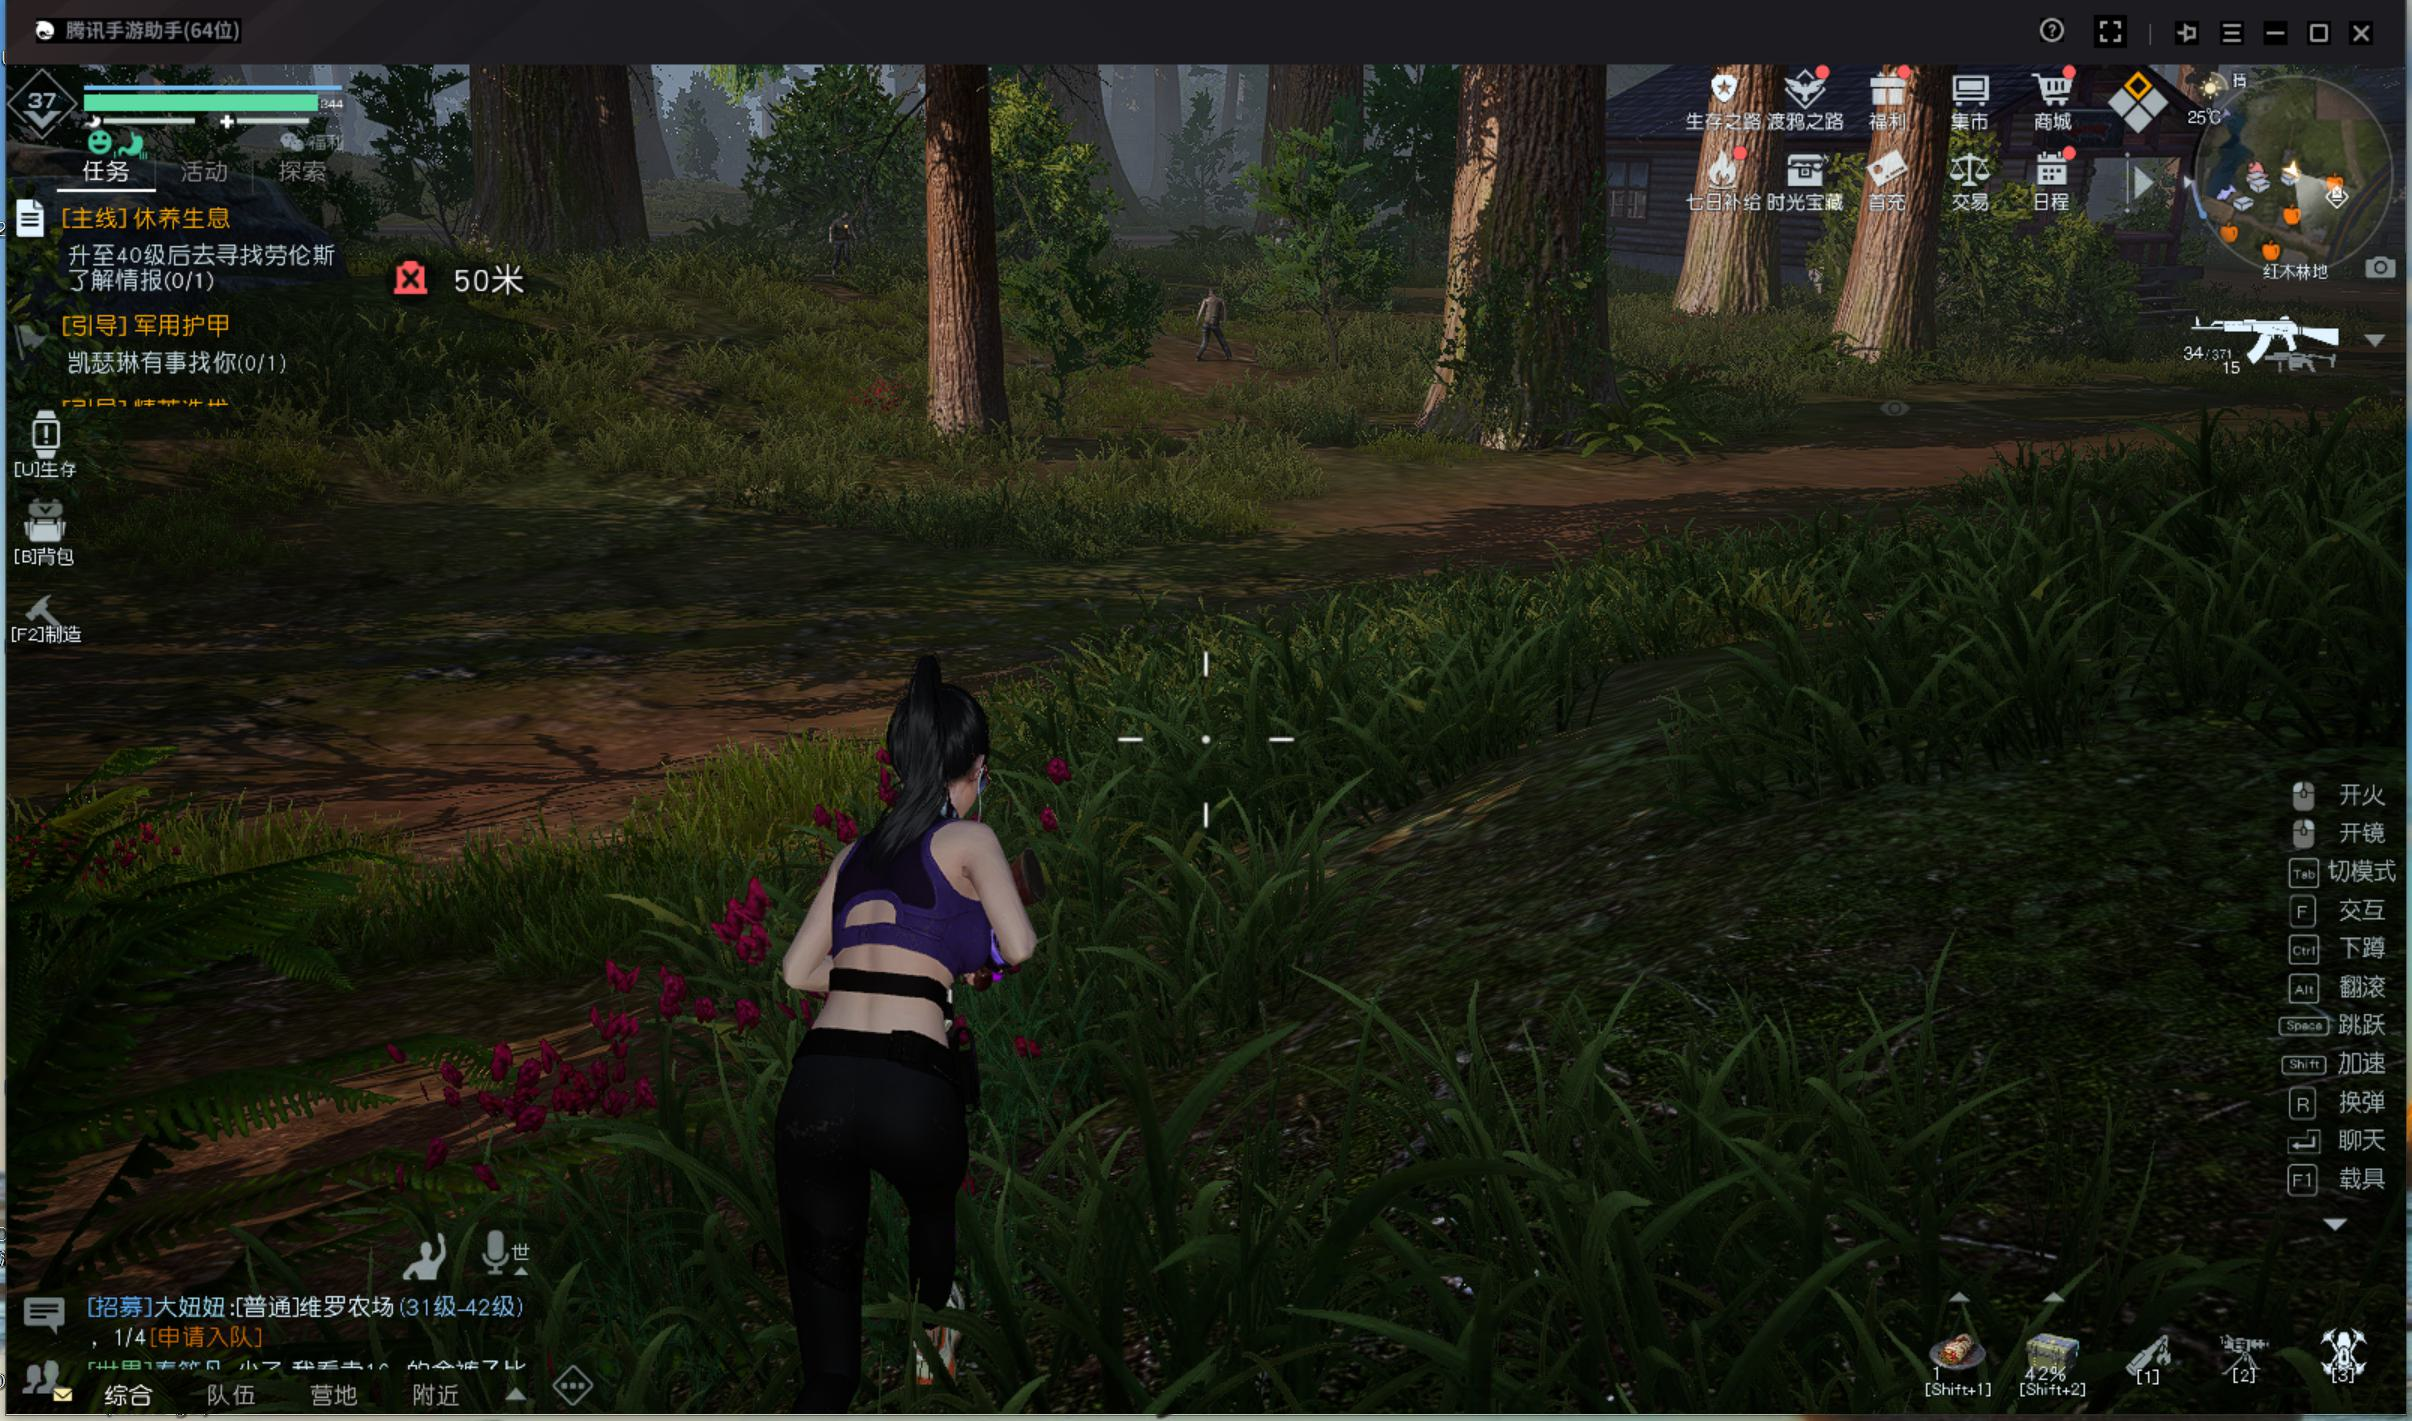tree: (1428, 91, 1614, 453), (908, 59, 1023, 477), (1680, 78, 1776, 333), (1839, 140, 1937, 379)
